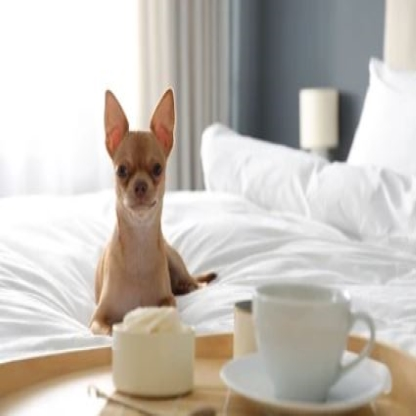chihuahua: (91, 85, 218, 328)
